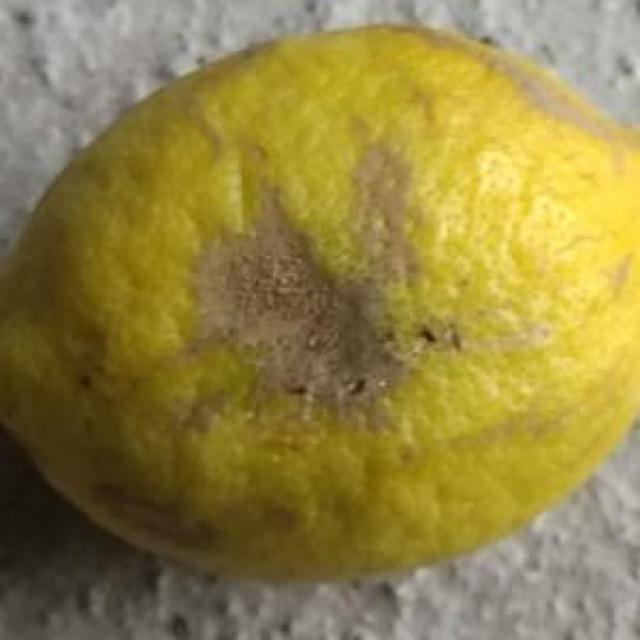lemon: (1, 22, 640, 583)
